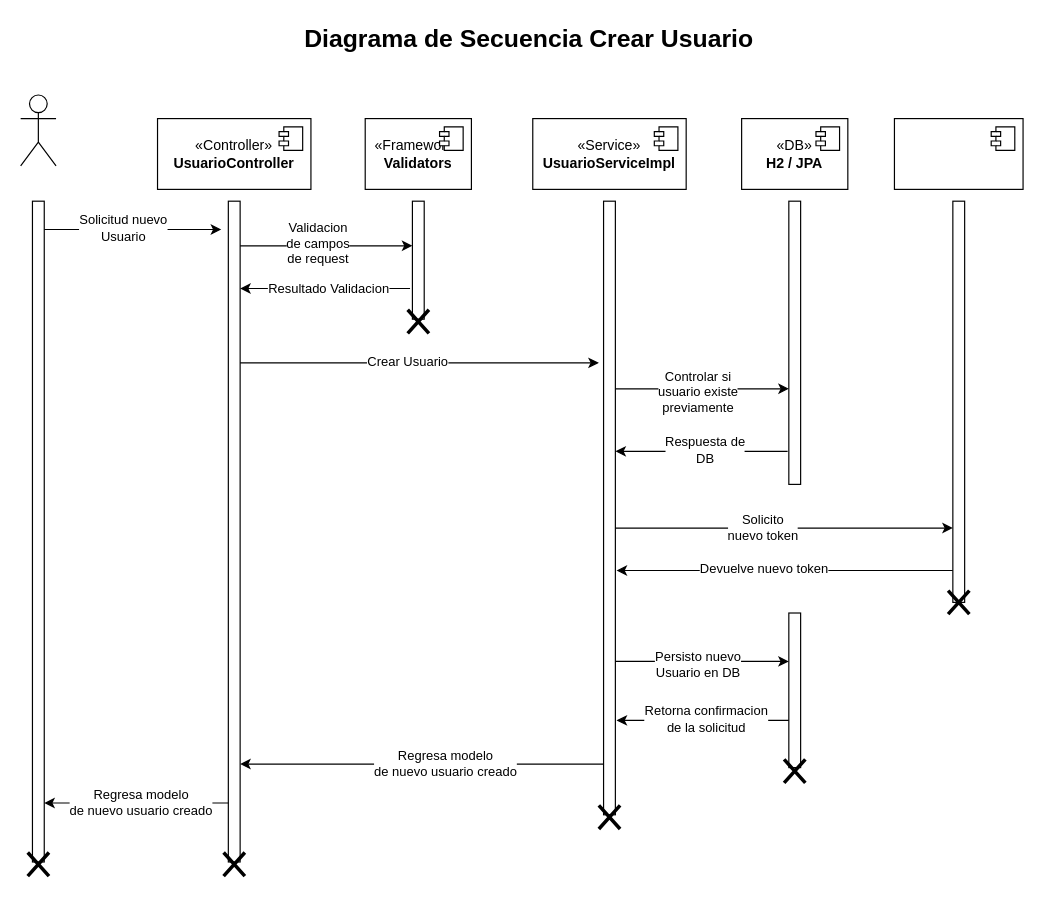
This 1044x898 diagram has some shape labels left out. Here are the shapes that lost their labels. From the top down, the box of each, then its label:
(19, 94, 56, 166): Actor
(893, 117, 1023, 189): «Servicio» JwtUtilServices
